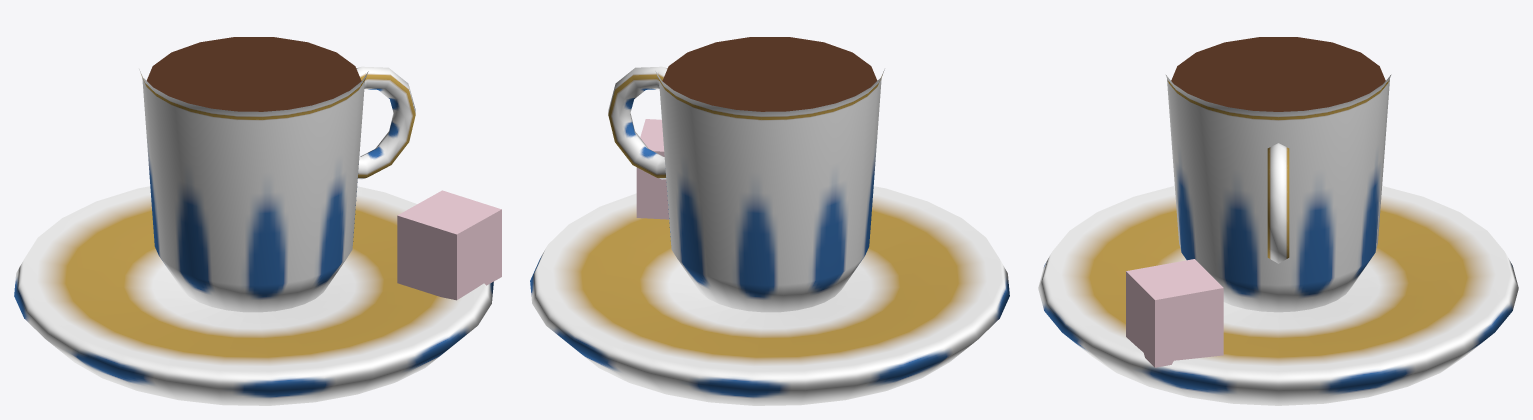
File: turk-kahvesi.glb
The picture shows the model from 3 angles, left to right: view 1: azimuth 30°, elevation 25°; view 2: azimuth 150°, elevation 25°; view 3: azimuth 270°, elevation 25°; orthographic projection.
Visible parts, largest first — view 1: turk-kahvesi; view 2: turk-kahvesi; view 3: turk-kahvesi.
Part boxes in pixels (bbox=[...]): turk-kahvesi: bbox=[14, 37, 501, 405]; turk-kahvesi: bbox=[530, 37, 1009, 405]; turk-kahvesi: bbox=[1038, 37, 1518, 405].
Bounding box in the file's own units: 0.116 × 0.068 × 0.116.
3 materials, 1 textured.
